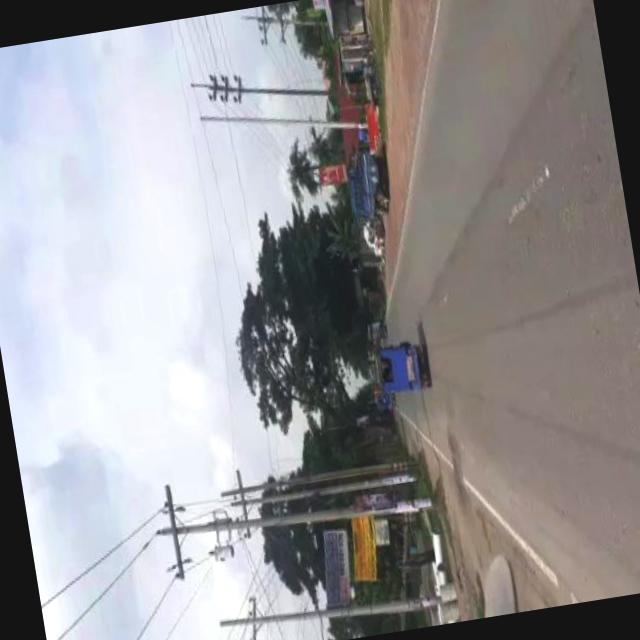motorcycle: (372, 344, 428, 401)
truck: (342, 154, 392, 226), (372, 394, 392, 418), (364, 322, 384, 346)
